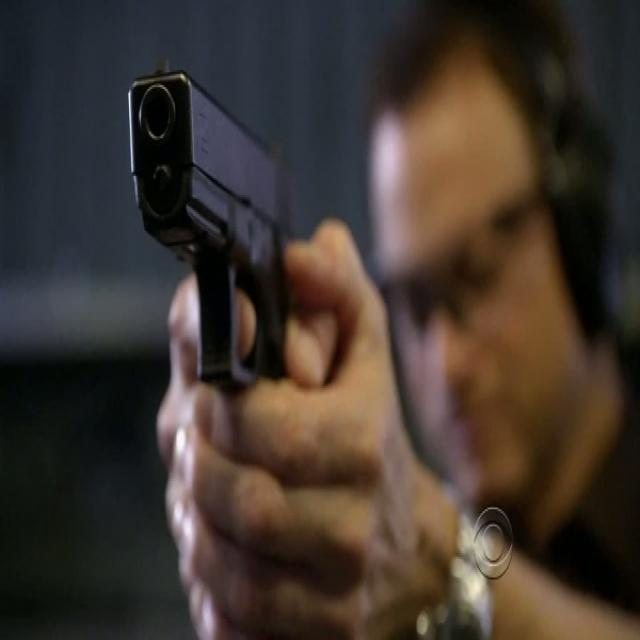weapons: (120, 34, 328, 510)
